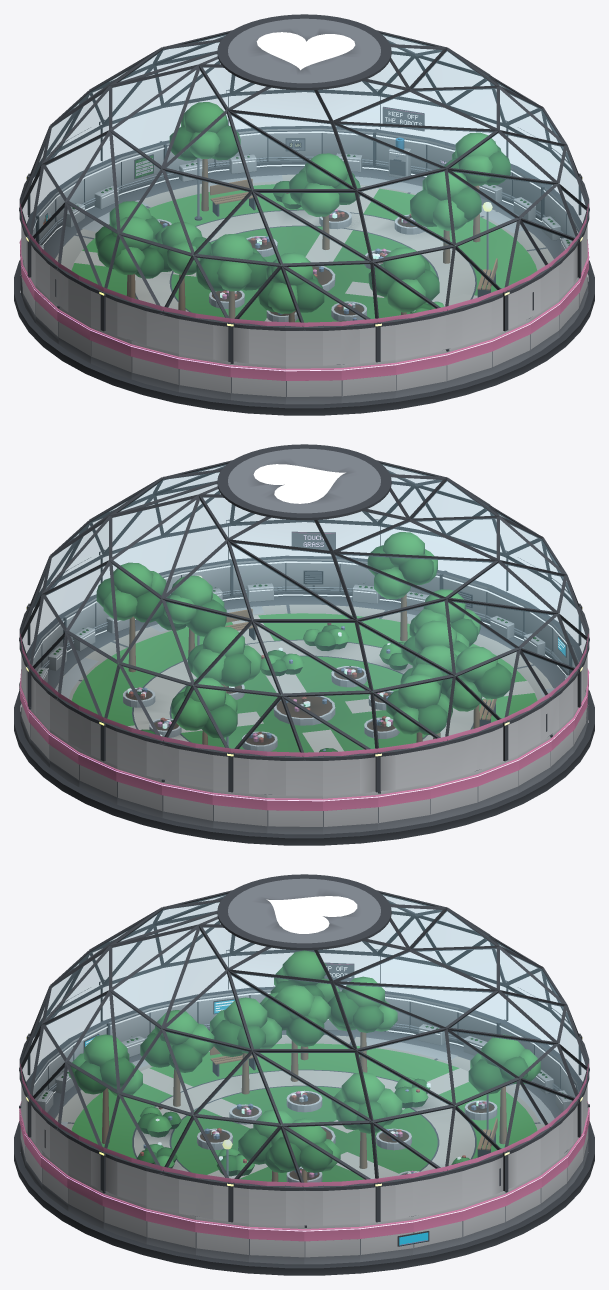
The model's file is park_m.glb.
The picture shows the model from 3 angles, top to bottom: view 1: azimuth 30°, elevation 25°; view 2: azimuth 150°, elevation 25°; view 3: azimuth 270°, elevation 25°; orthographic projection.
Visible parts, largest first — view 1: Roof, Interior, Base, Wall_21, Wall_20, Wall_22, Upper_20, Upper_21, Upper_22, Wall_19, Wall_23, Upper_19 (+32 smaller); view 2: Roof, Interior, Base, Wall_10, Wall_11, Wall_09, Upper_11, Upper_10, Upper_09, Wall_12, Wall_26, Wall_27 (+31 smaller); view 3: Roof, Interior, Base, Wall_00, Wall_31, Upper_00, Upper_31, Wall_30, Upper_01, Upper_30, Wall_29, Wall_01 (+30 smaller).
Part boxes in pixels (x1,y1,x2,y2): Roof: (19,14,589,330); Interior: (71,102,537,322); Base: (14,166,594,415); Wall_21: (286,364,341,404); Wall_20: (230,361,285,404); Wall_22: (341,359,396,403); Upper_20: (230,324,285,365); Upper_21: (285,327,341,365); Upper_22: (341,321,396,364); Wall_19: (178,353,230,399); Wall_23: (395,349,447,397); Upper_19: (178,315,230,361); Roof: (19,444,589,760); Interior: (55,532,554,752); Base: (14,596,594,845); Wall_10: (267,794,322,834); Wall_11: (323,791,378,834); Wall_09: (212,789,267,833); Upper_11: (323,754,378,795); Upper_10: (267,757,323,795); Upper_09: (212,751,267,794); Wall_12: (378,783,430,829); Wall_26: (286,555,340,596); Wall_27: (231,556,286,602); Roof: (19,874,589,1190); Interior: (57,950,554,1182); Base: (14,1029,594,1275); Wall_00: (304,1223,359,1264); Wall_31: (249,1223,304,1264); Upper_00: (304,1186,360,1225); Upper_31: (248,1186,304,1225); Wall_30: (195,1216,248,1261); Upper_01: (360,1178,413,1223); Upper_30: (195,1178,248,1223); Wall_29: (146,1206,195,1254); Wall_01: (360,1216,413,1261).
Size of the model in its own units: 17.76 by 8.16 by 17.76.
